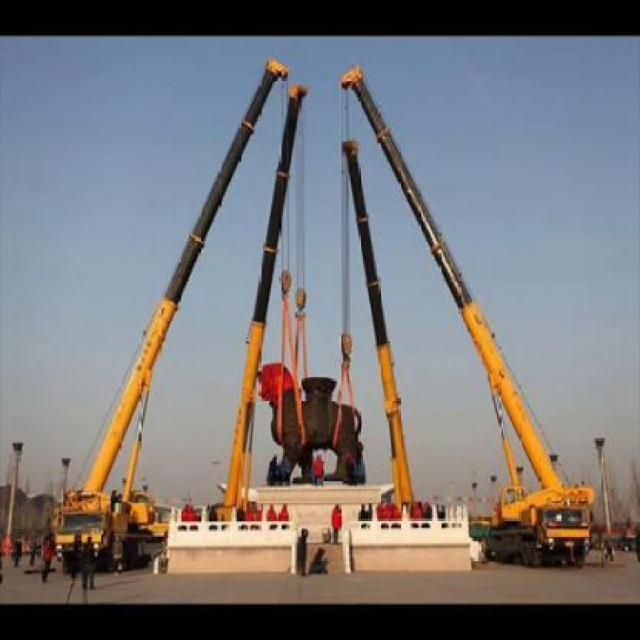Mobile Crane: (340, 62, 597, 568), (48, 52, 287, 574)
